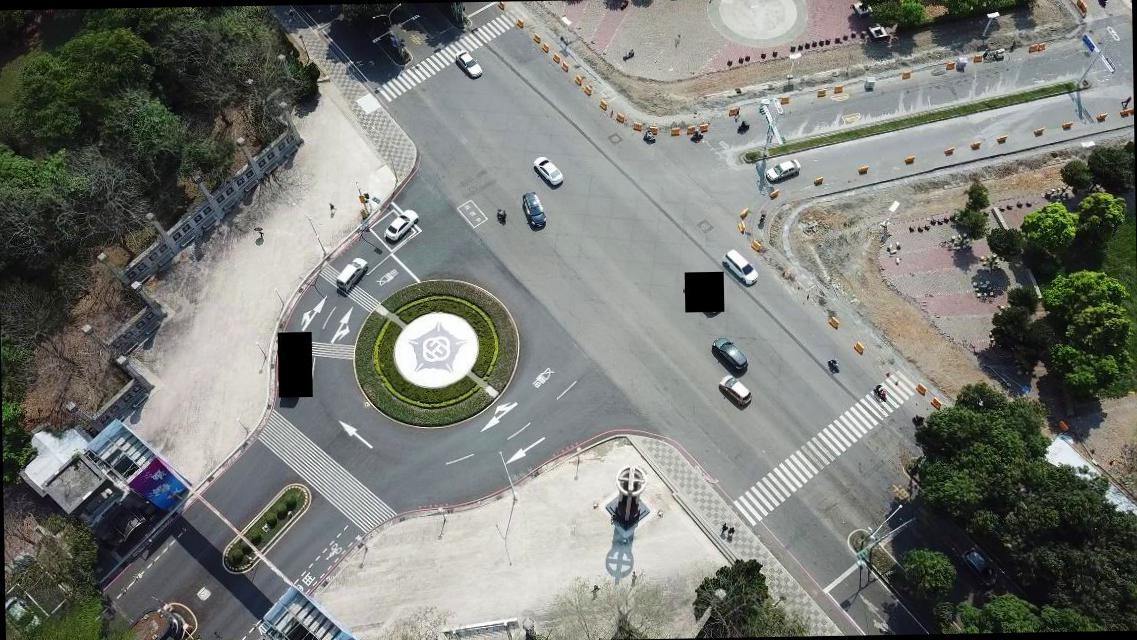vehicle: (722, 248, 758, 288), (4, 595, 40, 634), (383, 206, 420, 242), (711, 336, 749, 371), (720, 373, 752, 408), (336, 258, 368, 292), (533, 154, 565, 187), (522, 192, 546, 228), (455, 48, 483, 78), (766, 158, 801, 182)
